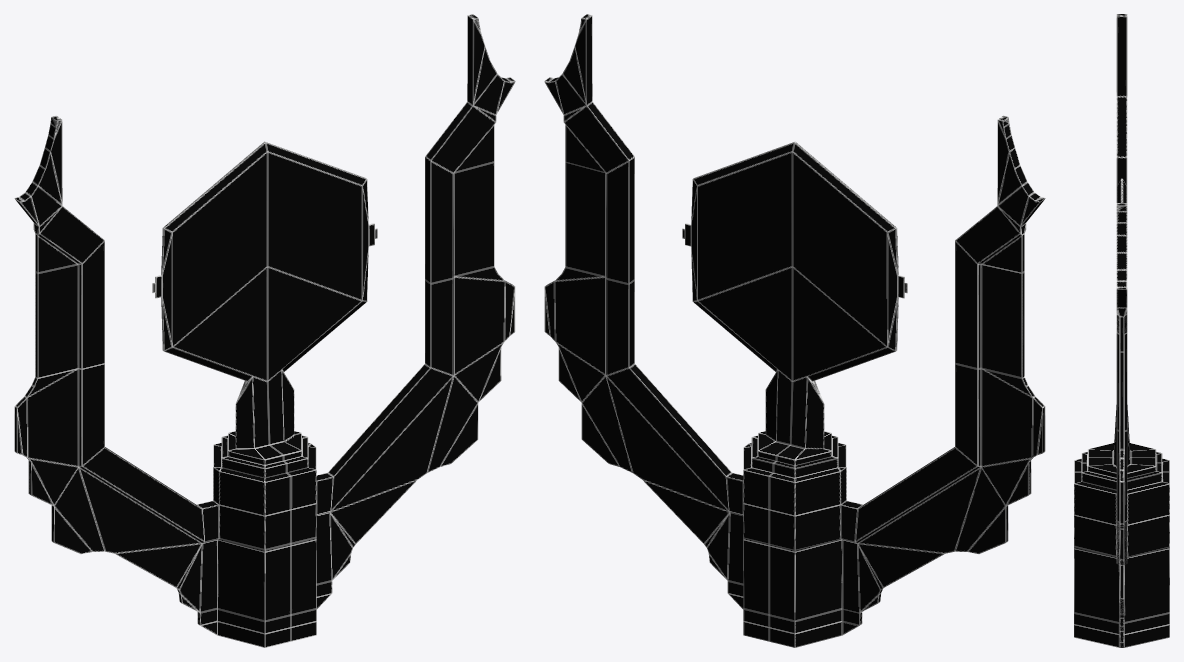
3 views of the same model, side by side, from view 1: azimuth 30°, elevation 25°; view 2: azimuth 150°, elevation 25°; view 3: azimuth 270°, elevation 25° (orthographic). The views are drawn at different scales.
Parts seen in each view (by area): view 1: DD_13; view 2: DD_13; view 3: DD_13.
Boxes of the visible parts, left/top/right/bottom form: DD_13: left=14, top=14, right=515, bottom=647; DD_13: left=544, top=14, right=1045, bottom=647; DD_13: left=1074, top=14, right=1169, bottom=647.
Bounding box in the file's own units: 4825 × 5140 × 866.
1 material, 1 textured.
